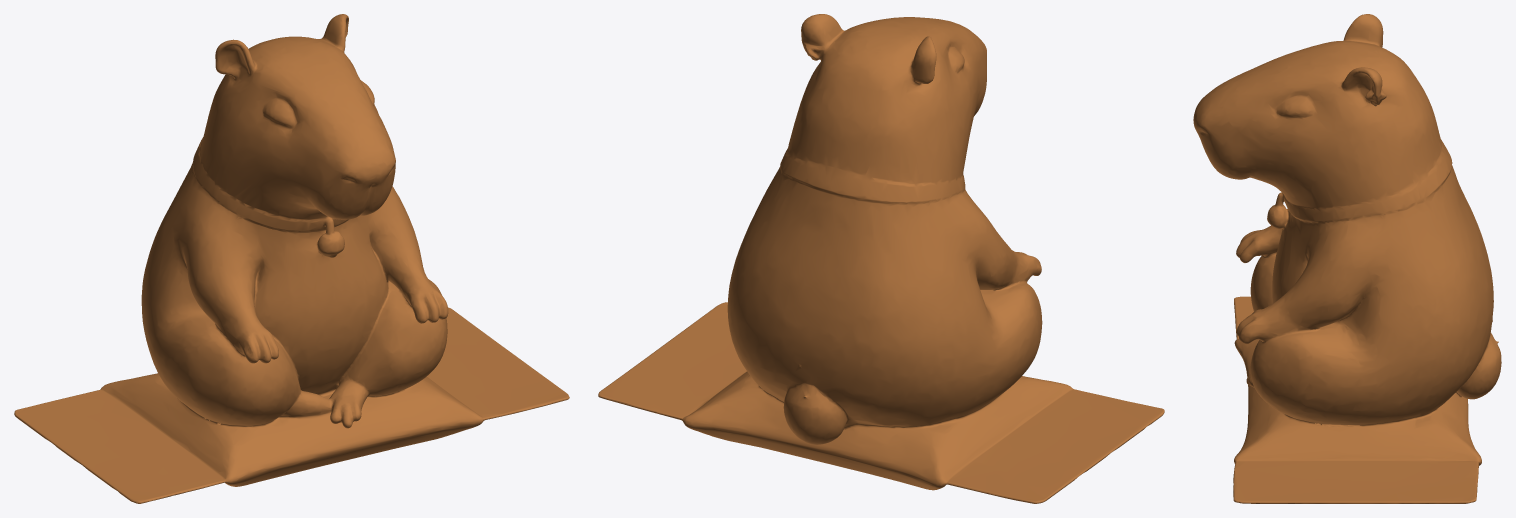
The model's file is capybara.glb.
The picture shows the model from 3 angles, left to right: view 1: azimuth 30°, elevation 25°; view 2: azimuth 150°, elevation 25°; view 3: azimuth 270°, elevation 25°; orthographic projection. The views are drawn at different scales.
Parts seen in each view (by area): view 1: capybara; view 2: capybara; view 3: capybara.
Part boxes in pixels (bbox=[...]): capybara: bbox=[14, 14, 569, 503]; capybara: bbox=[598, 14, 1164, 503]; capybara: bbox=[1193, 14, 1501, 503].
Size of the model in its own units: 1.99 by 1.74 by 1.26.
